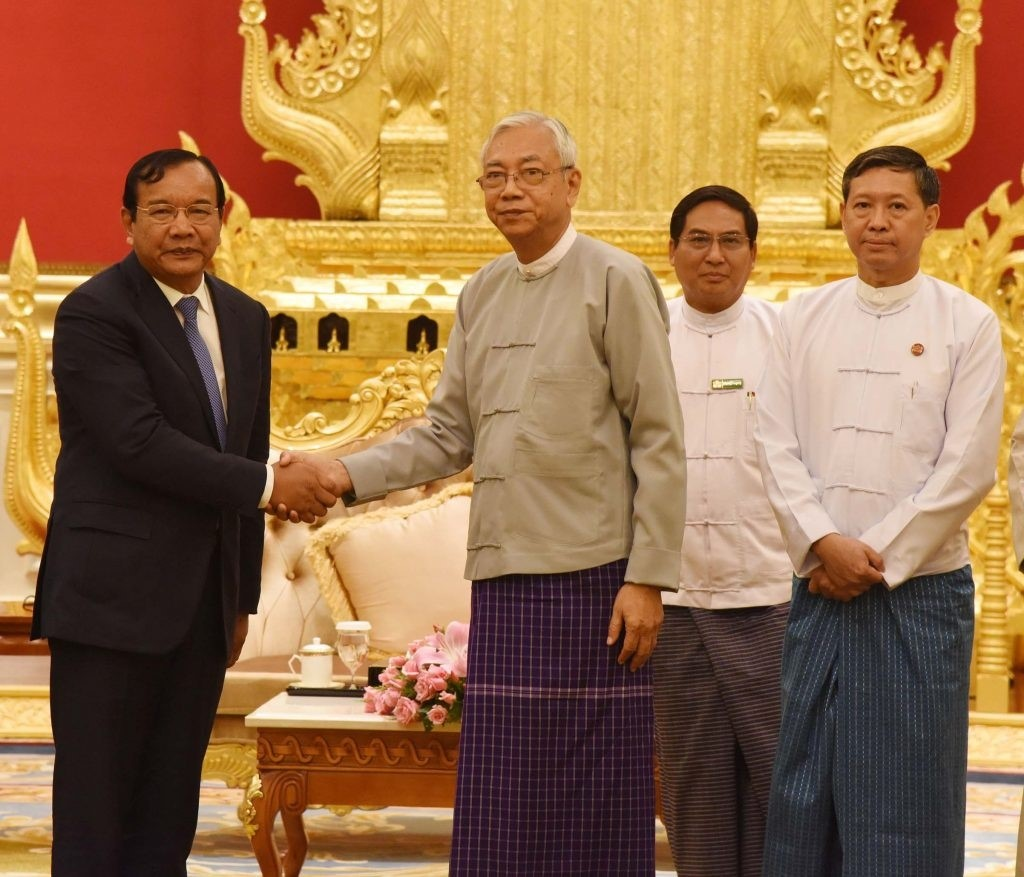face_no_mask: (128, 157, 223, 282), (843, 144, 941, 265), (483, 118, 578, 242), (675, 190, 759, 305)
